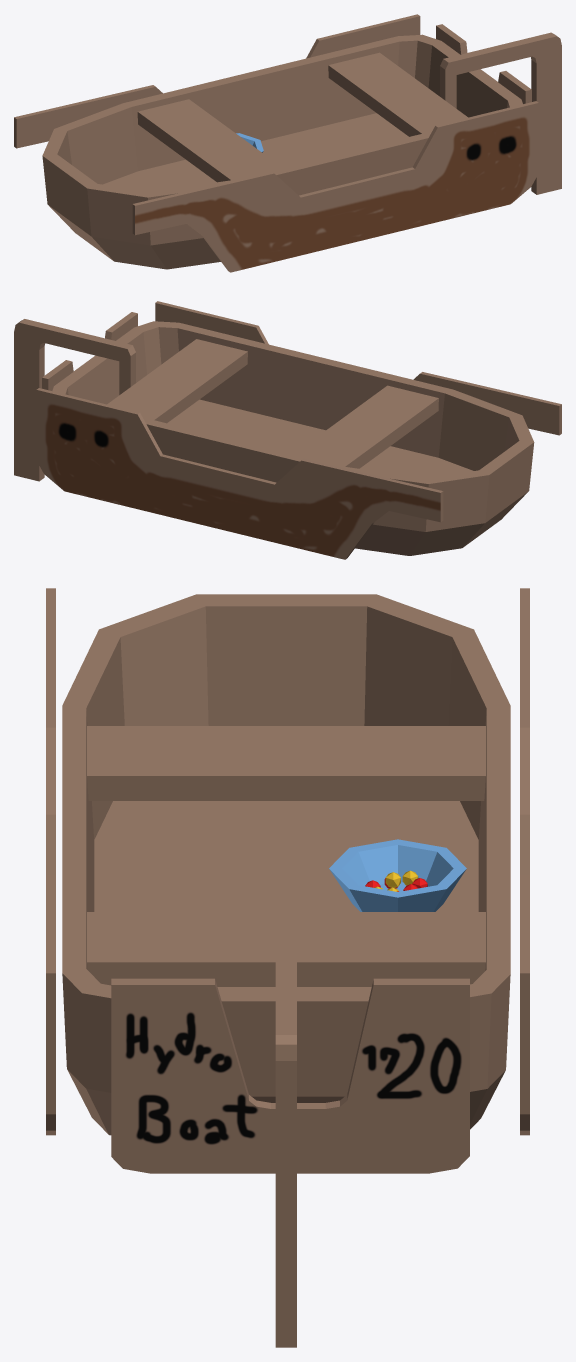
The model's file is Boat.glb.
The picture shows the model from 3 angles, top to bottom: view 1: azimuth 30°, elevation 25°; view 2: azimuth 150°, elevation 25°; view 3: azimuth 270°, elevation 25°; orthographic projection. The views are drawn at different scales.
Parts seen in each view (by area): view 1: Boat, Paddle; view 2: Boat, Paddle; view 3: Boat, Paddle, Candy.
Part boxes in pixels (x1,y1,x2,y2): Boat: [14, 14, 538, 272]; Paddle: [440, 32, 561, 194]; Boat: [36, 301, 561, 559]; Paddle: [14, 319, 135, 481]; Boat: [46, 588, 529, 1173]; Paddle: [275, 929, 296, 1347]; Candy: [329, 839, 466, 911].
Bounding box in the file's own units: 19.06 × 5.66 × 8.08.
5 materials, 1 textured.
